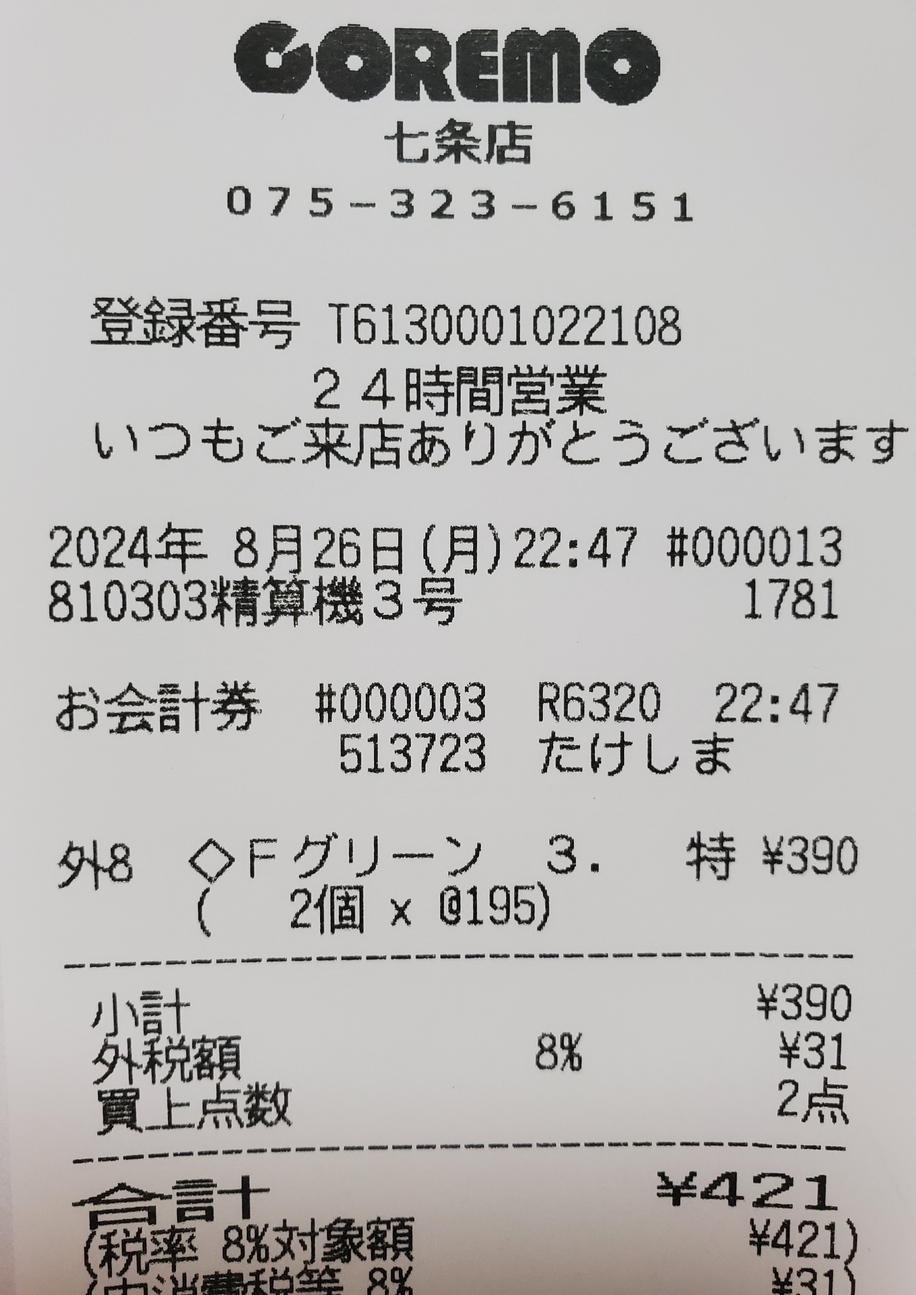Date: (33, 508, 416, 576)
Shopname: (212, 5, 679, 116)
Telnum: (216, 172, 715, 242)
Totalpay: (60, 1165, 877, 1226)
